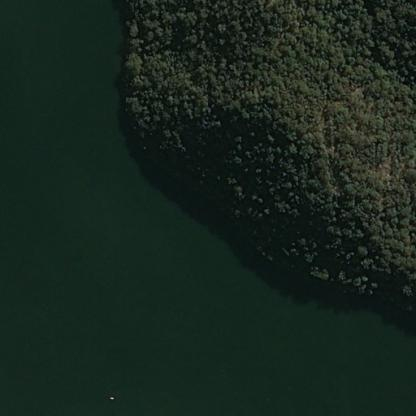ship: (108, 396, 115, 399)
